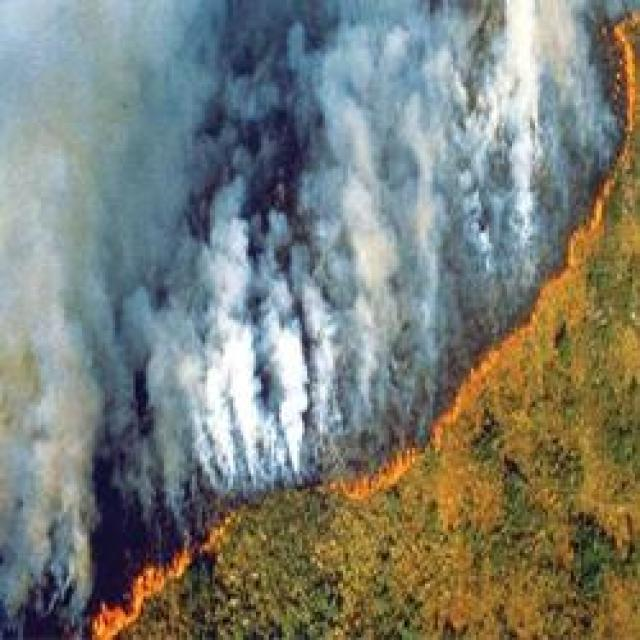fire: (93, 517, 235, 639), (497, 270, 568, 348), (430, 361, 500, 438), (334, 442, 402, 512), (574, 170, 628, 234), (618, 12, 631, 136)
